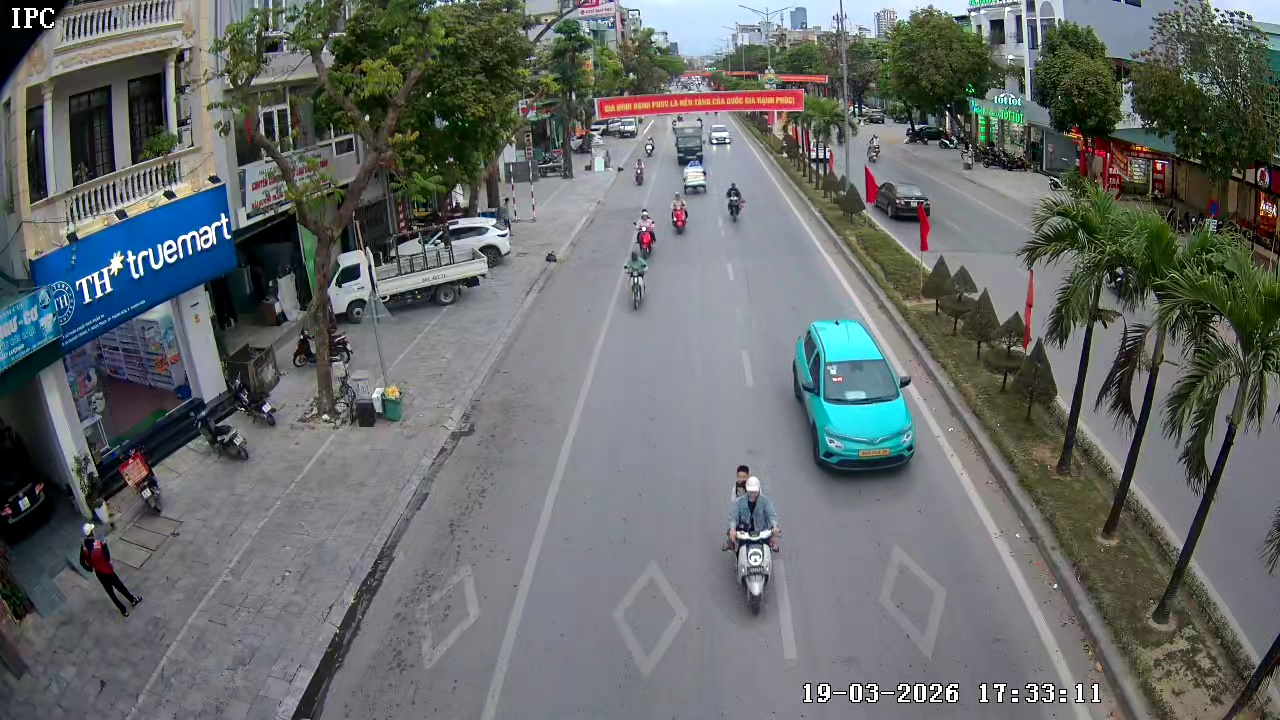car: (791, 320, 919, 471), (864, 164, 931, 222)
motorbike: (720, 469, 784, 617), (621, 244, 650, 312), (633, 208, 657, 260), (668, 190, 691, 236), (683, 157, 707, 195), (725, 180, 744, 223)
truck: (672, 119, 705, 160), (707, 125, 732, 155)
